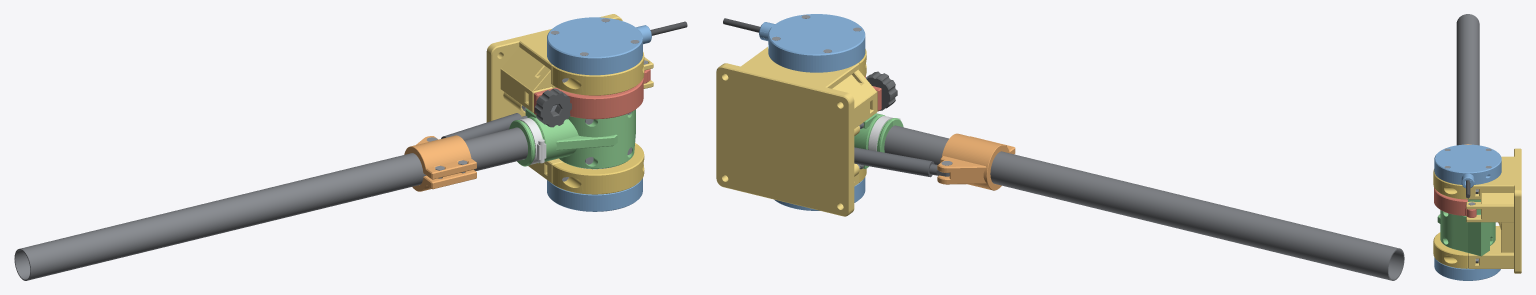
The model's file is MkIII_Rev3_Assembly.glb.
3 views of the same model, side by side, from view 1: azimuth 30°, elevation 25°; view 2: azimuth 150°, elevation 25°; view 3: azimuth 270°, elevation 25° (orthographic). The views are drawn at different scales.
Visible parts, largest first — view 1: carbon_tube, frame, cover_cable, lever_upper, strut_collar, cap_left, shoe, cap_right, cover_sensor, friction_knob, gas_strut, hose_clamp; view 2: frame, carbon_tube, cover_cable, strut_collar, gas_strut, lever_lower, friction_knob; view 3: frame, carbon_tube, cover_cable, lever_upper, lever_lower, cover_sensor, cap_left, shoe, cap_right, hardware, usb_cable.
Part boxes in pixels (box(x1,y1,x2,y2)): carbon_tube: box(14, 127, 527, 280); frame: box(486, 14, 653, 183); cover_cable: box(547, 17, 651, 75); lever_upper: box(519, 110, 635, 168); strut_collar: box(404, 135, 476, 191); cap_left: box(552, 144, 644, 194); shoe: box(534, 69, 650, 119); cap_right: box(552, 52, 644, 95); cover_sensor: box(547, 178, 642, 211); friction_knob: box(534, 88, 571, 127); gas_strut: box(441, 113, 527, 140); hose_clamp: box(520, 118, 546, 164); frame: box(716, 46, 877, 216); carbon_tube: box(884, 125, 1404, 280); cover_cable: box(759, 14, 865, 72); strut_collar: box(937, 133, 1015, 190); gas_strut: box(854, 147, 949, 177); lever_lower: box(854, 113, 892, 168); friction_knob: box(865, 71, 897, 110); frame: box(1466, 148, 1521, 273); carbon_tube: box(1456, 14, 1479, 145); cover_cable: box(1434, 144, 1501, 188); lever_upper: box(1437, 199, 1467, 252); lever_lower: box(1468, 199, 1495, 256); cover_sensor: box(1434, 257, 1500, 280); cap_left: box(1433, 232, 1467, 268); shoe: box(1434, 187, 1476, 217); cap_right: box(1433, 169, 1467, 199); hardware: box(1444, 148, 1491, 263); usb_cable: box(1466, 180, 1470, 198).
Size of the model in its own units: 583 by 130 by 95.5.
